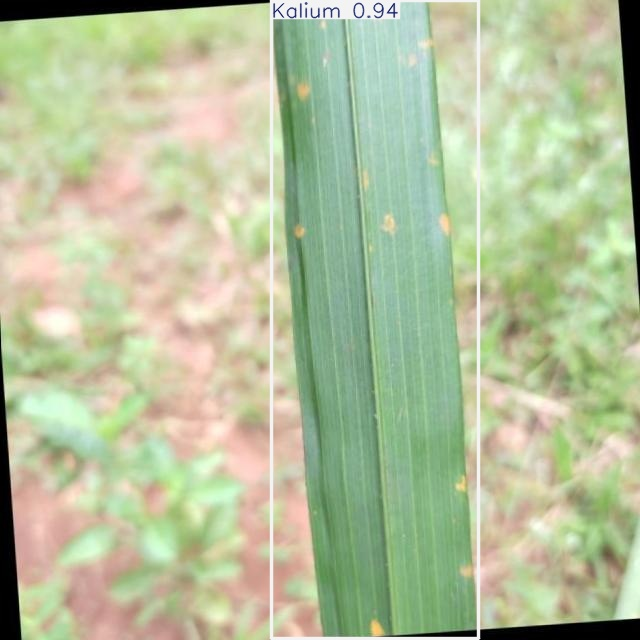Kalium: (271, 1, 479, 639)
